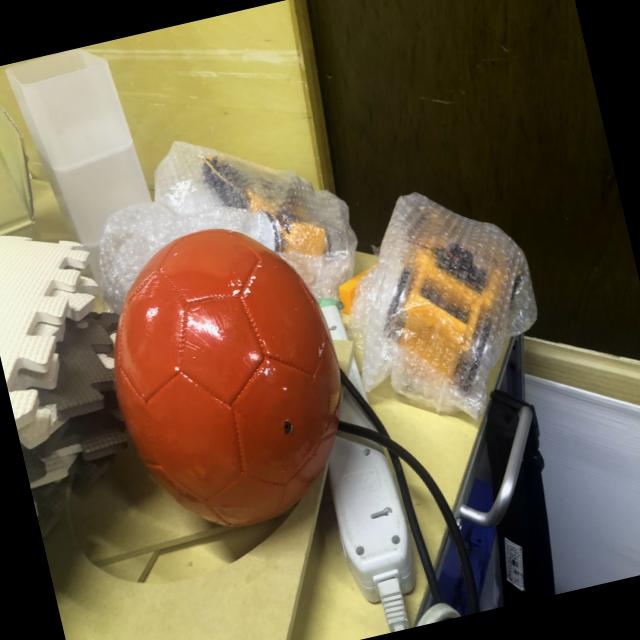red_ball: (84, 207, 368, 546)
